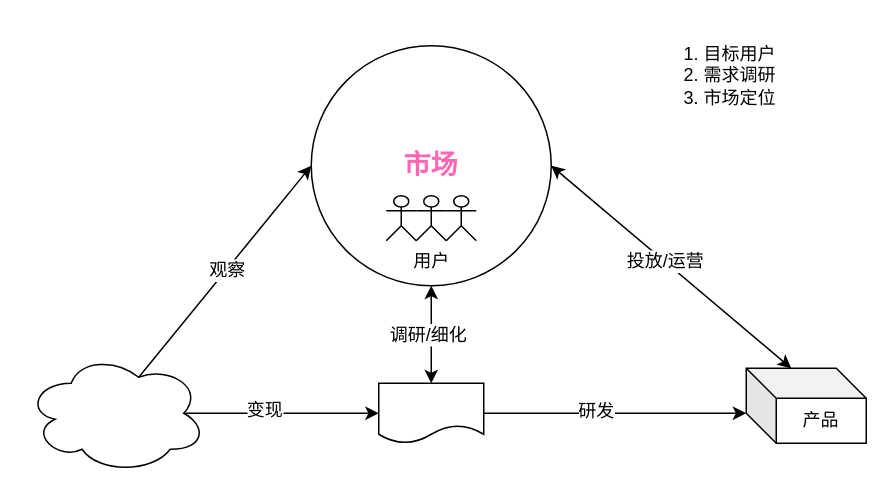
The diagram is 893 pixels wide and 500 high, and some of its shapes have lost their labels. The shapes that lost their labels are listed below. From the top down, each one's centre as x and y in pixels, then its label:
At (x=115, y=412): "眼光/想法".
At (x=430, y=412): "需求".
